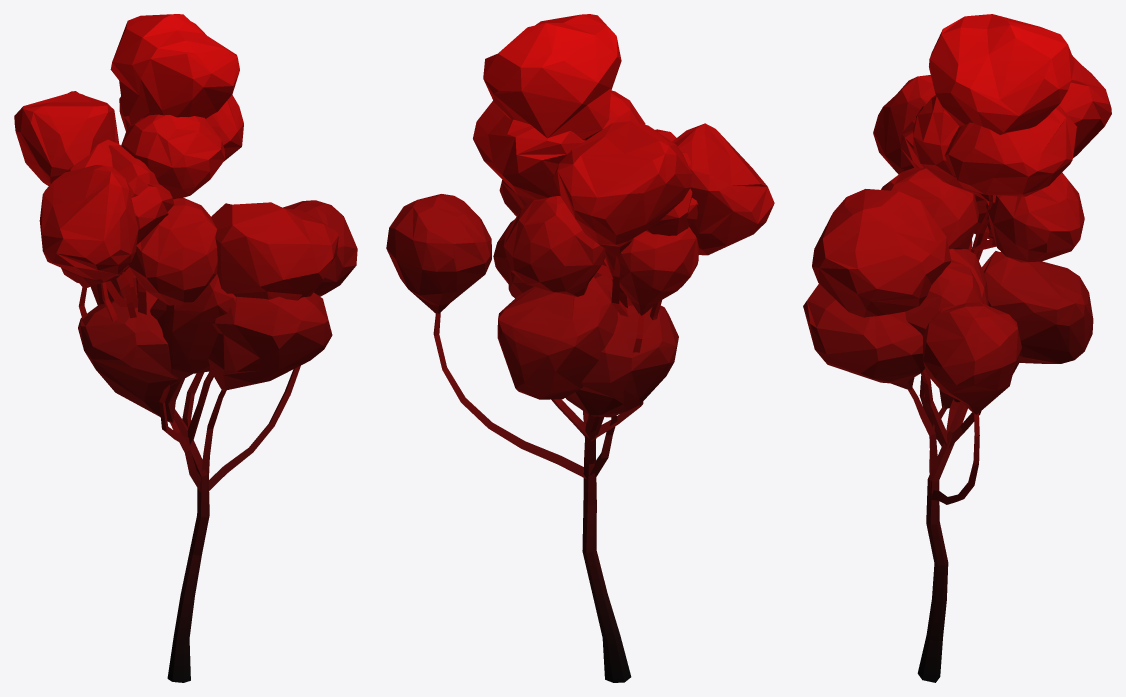
The model's file is TreeEuca02.fbx.
The picture shows the model from 3 angles, left to right: view 1: azimuth 30°, elevation 25°; view 2: azimuth 150°, elevation 25°; view 3: azimuth 270°, elevation 25°; orthographic projection. The views are drawn at different scales.
Visible parts, largest first — view 1: TreeEuca02_LOD0; view 2: TreeEuca02_LOD0; view 3: TreeEuca02_LOD0.
Part boxes in pixels (left/top/right/bottom): TreeEuca02_LOD0: left=14, top=14, right=357, bottom=682; TreeEuca02_LOD0: left=386, top=14, right=774, bottom=682; TreeEuca02_LOD0: left=803, top=14, right=1111, bottom=682.
Size of what is drawn, in the model's own units: 346 by 639 by 268.
